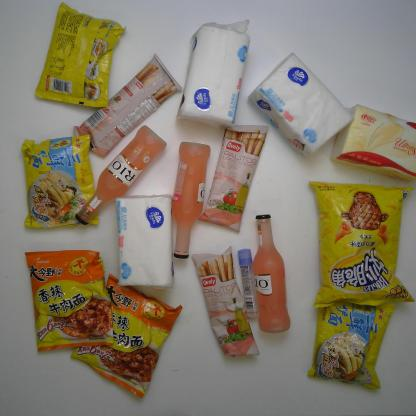Alcohol: (74, 123, 169, 227), (251, 213, 293, 334), (170, 140, 212, 260)
Dessert: (72, 51, 184, 160), (195, 123, 270, 234), (191, 245, 262, 361)
Instant Noodles: (70, 271, 184, 400), (34, 0, 128, 110), (23, 248, 114, 354), (306, 299, 398, 392), (20, 132, 101, 230)
Puffed Food: (308, 180, 416, 309)
Stationery: (237, 247, 261, 321)
Tissue: (246, 50, 356, 160), (174, 17, 252, 128), (328, 102, 416, 183), (114, 191, 177, 290)
